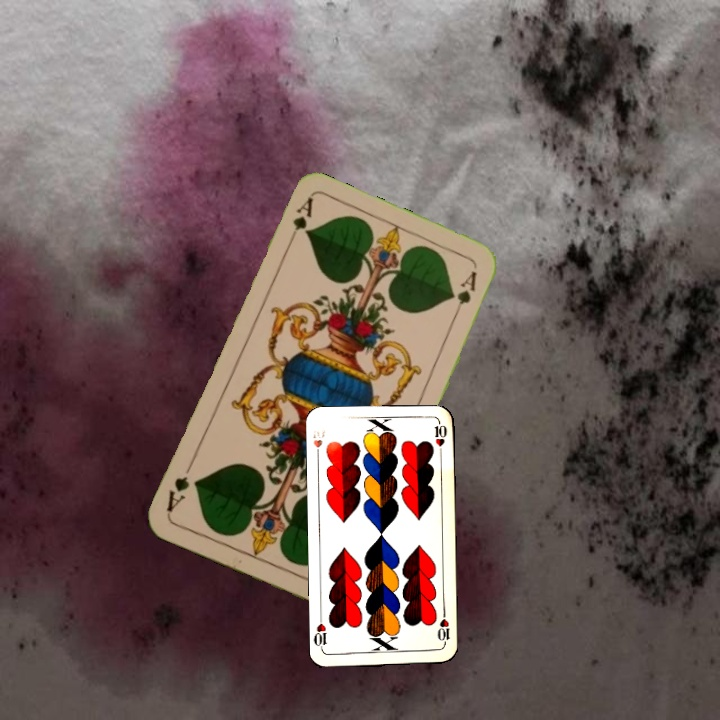GA: (282, 194, 316, 250)
H10: (433, 608, 452, 648), (309, 423, 328, 462)
